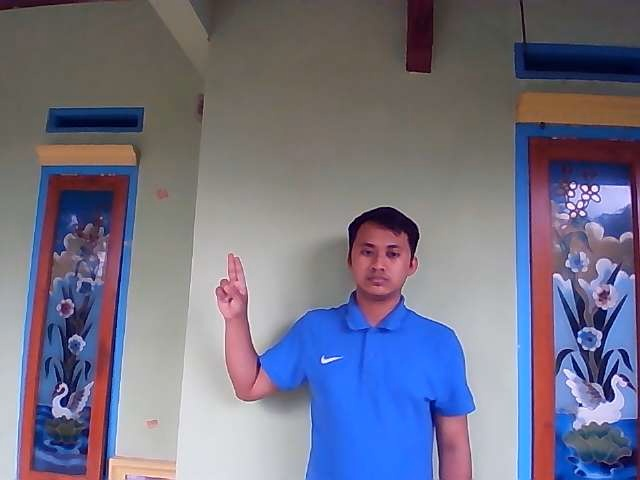U: (215, 252, 249, 318)
